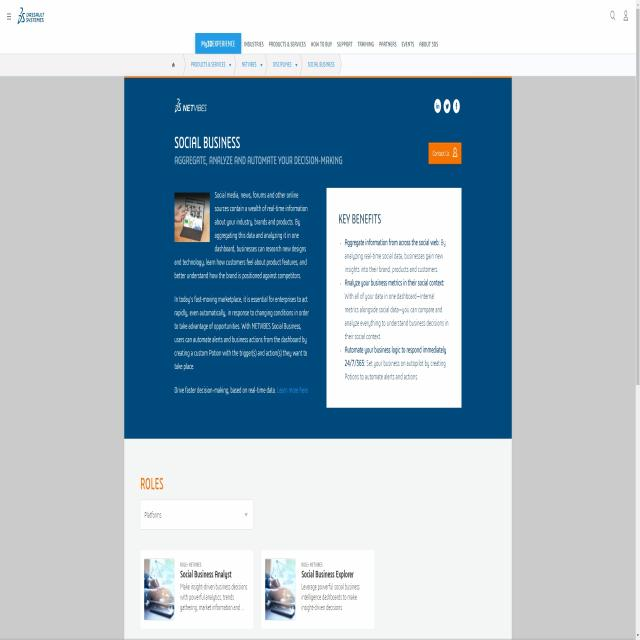menu-bar: (605, 5, 633, 26)
search: (606, 8, 618, 23)
tab-bar: (195, 31, 440, 53), (168, 54, 342, 75)
